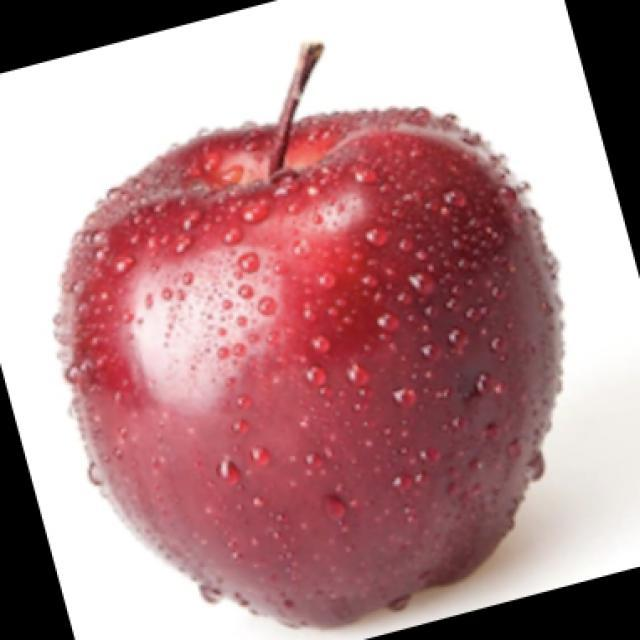Fresh Apple: (73, 105, 570, 618)
